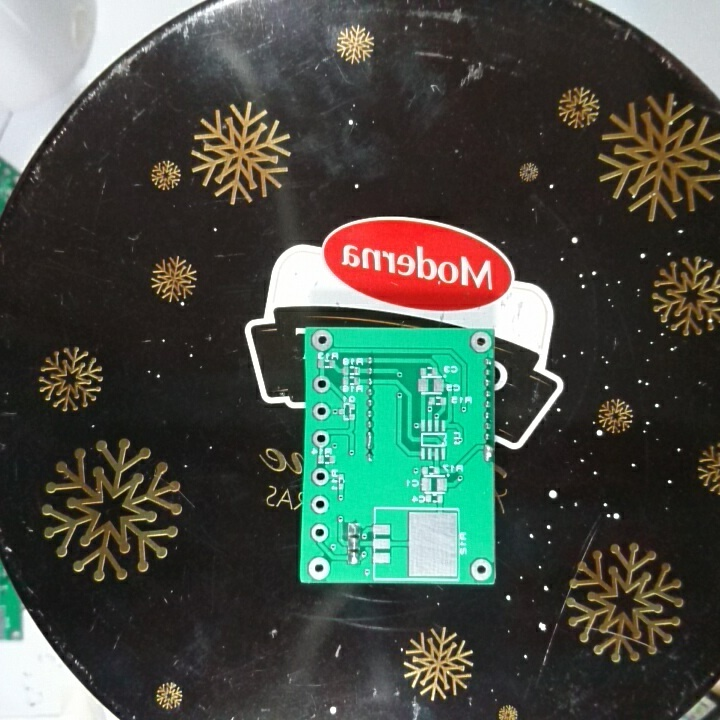F: (468, 555, 494, 583), (467, 330, 493, 356), (306, 554, 331, 581), (310, 329, 336, 353), (306, 520, 330, 545), (308, 493, 331, 518), (311, 373, 331, 396), (311, 401, 331, 423), (311, 463, 330, 486), (311, 430, 331, 449)
P: (362, 428, 376, 452), (482, 442, 494, 465)
